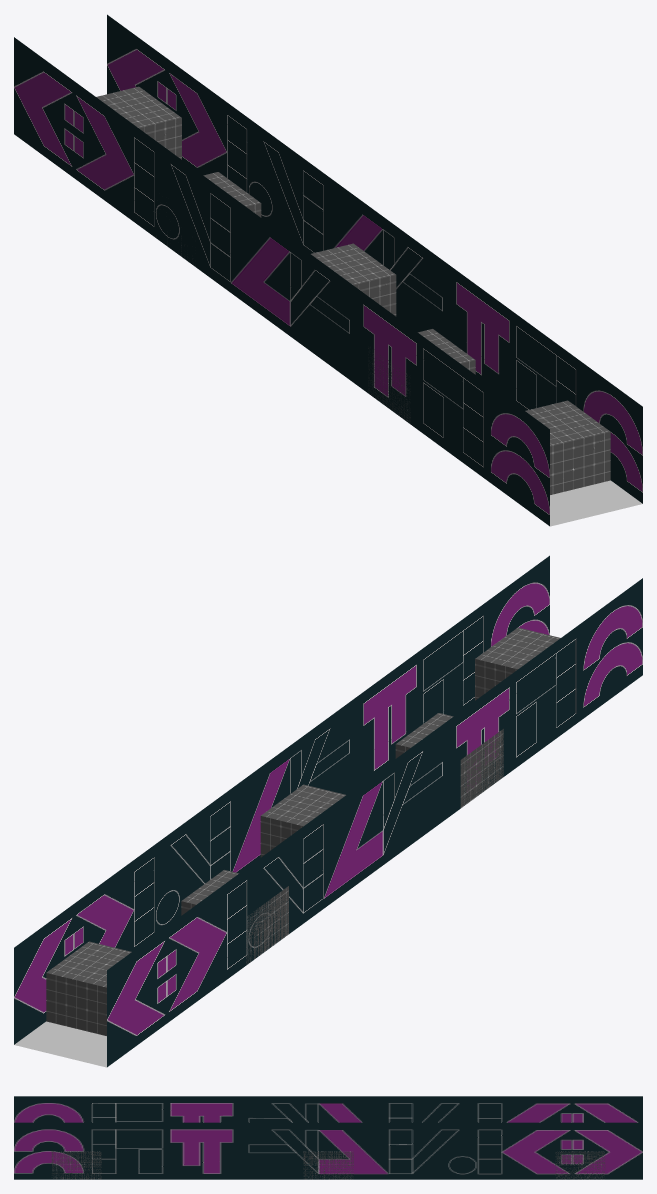
File: Tile15.fbx
The picture shows the model from 3 angles, top to bottom: view 1: azimuth 30°, elevation 25°; view 2: azimuth 150°, elevation 25°; view 3: azimuth 270°, elevation 25°; orthographic projection. The views are drawn at different scales.
Parts seen in each view (by area): view 1: WallRight, WallLeft, pCube6, pCube4, pCube2, ground, pCube5, pCube3; view 2: WallRight, WallLeft, pCube2, pCube5, pCube3, pCube4, pCube6, ground; view 3: WallLeft, WallRight, pCube6, pCube4, pCube2.
Boxes of the visible parts, bbox=[...] form: WallRight: bbox=[14, 37, 549, 526]; WallLeft: bbox=[107, 14, 642, 503]; pCube6: bbox=[525, 400, 610, 494]; pCube4: bbox=[311, 243, 396, 316]; pCube2: bbox=[96, 86, 181, 159]; ground: bbox=[550, 480, 642, 526]; pCube5: bbox=[368, 329, 475, 423]; pCube3: bbox=[156, 172, 261, 266]; WallRight: bbox=[107, 578, 642, 1067]; WallLeft: bbox=[14, 555, 549, 1044]; pCube2: bbox=[46, 941, 131, 1035]; pCube5: bbox=[395, 713, 503, 808]; pCube3: bbox=[181, 870, 288, 964]; pCube4: bbox=[260, 784, 345, 857]; pCube6: bbox=[475, 627, 560, 700]; ground: bbox=[14, 1021, 106, 1067]; WallLeft: bbox=[14, 1122, 642, 1179]; WallRight: bbox=[14, 1096, 642, 1122]; pCube6: bbox=[51, 1151, 101, 1179]; pCube4: bbox=[303, 1151, 353, 1179]; pCube2: bbox=[555, 1151, 605, 1179].
Bounding box in the file's own units: 10 × 10 × 100.
